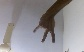hand: (32, 12, 56, 45)
